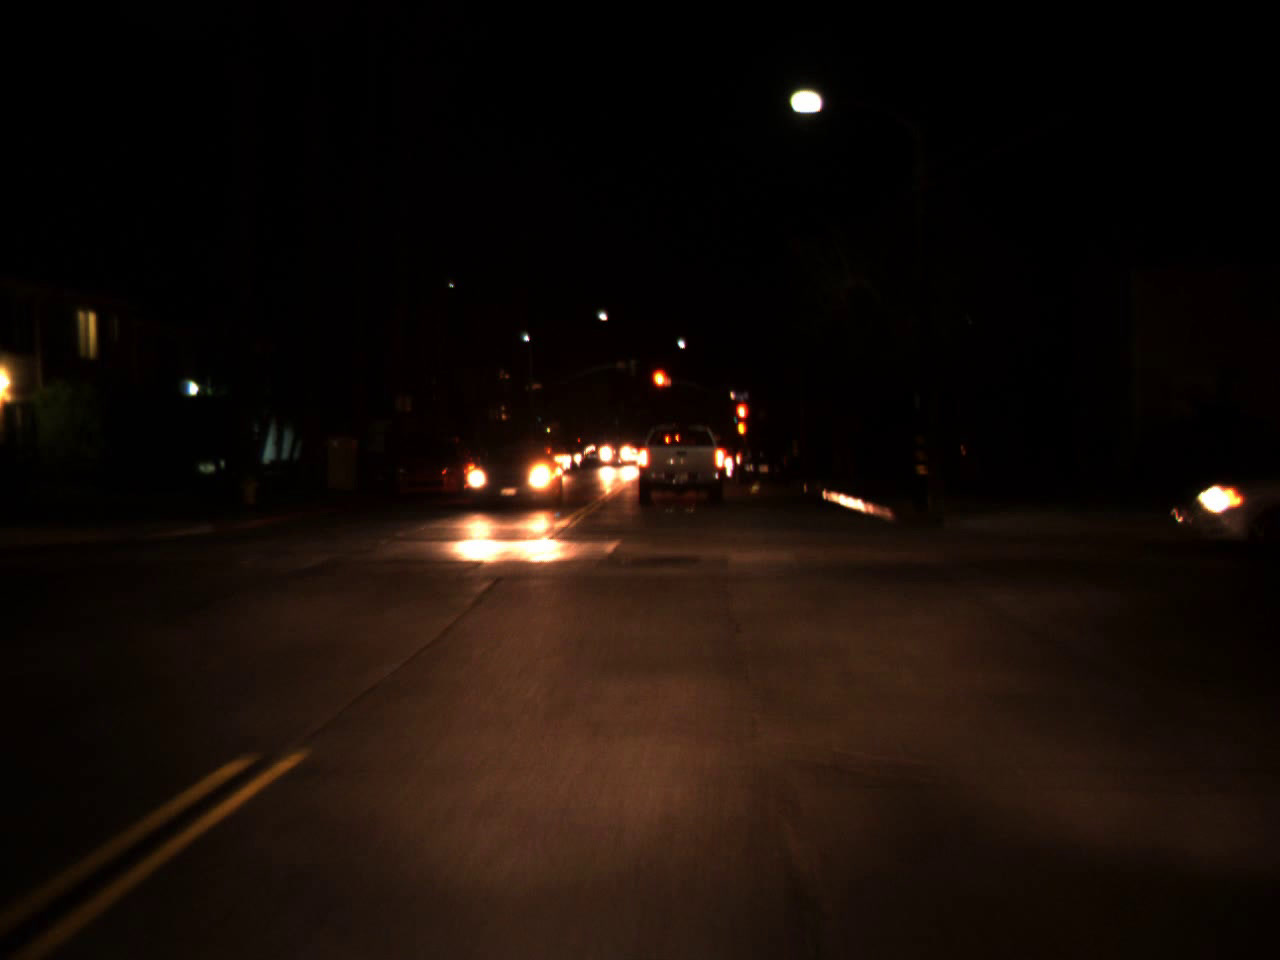stop: (648, 367, 673, 407), (736, 404, 746, 431)
